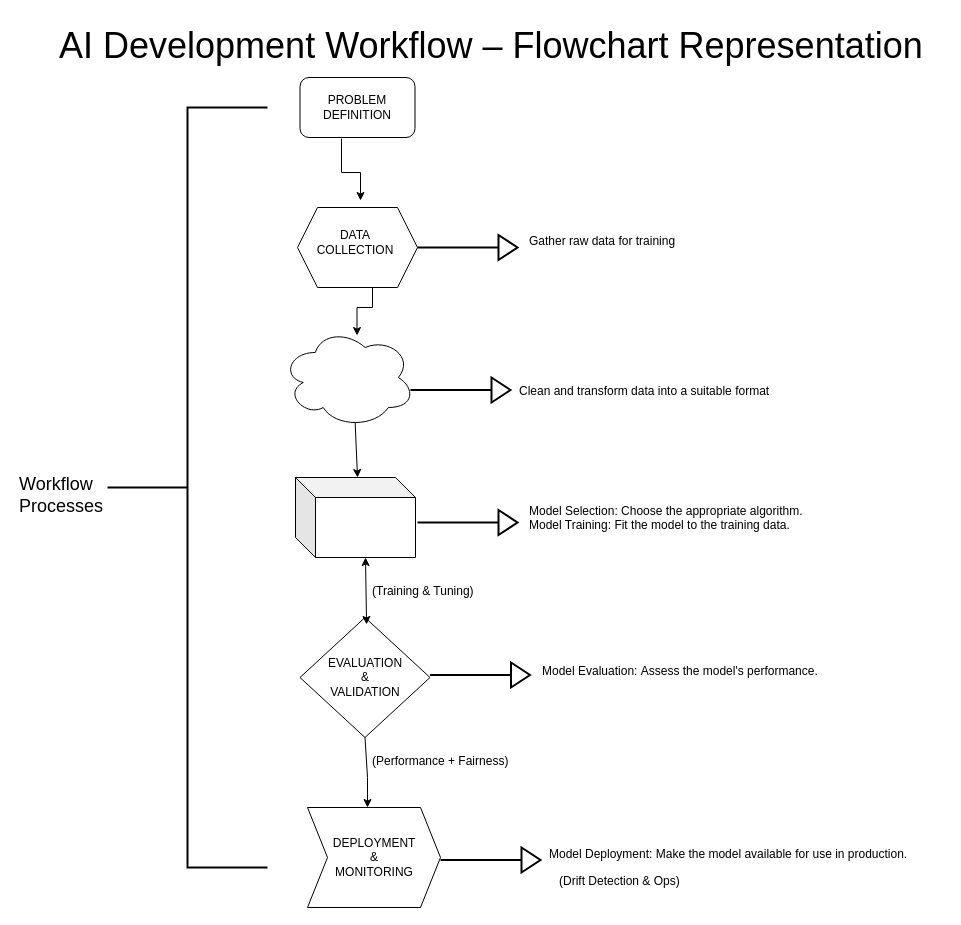
Image size: 961x925. Some labels were removed from this diagram. The centre of each missing label's shape, as x and y in pixels:
"DATA PREPROCESSING" belongs at [348,377].
"MODEL DEVELOPMENT" belongs at [355,517].
